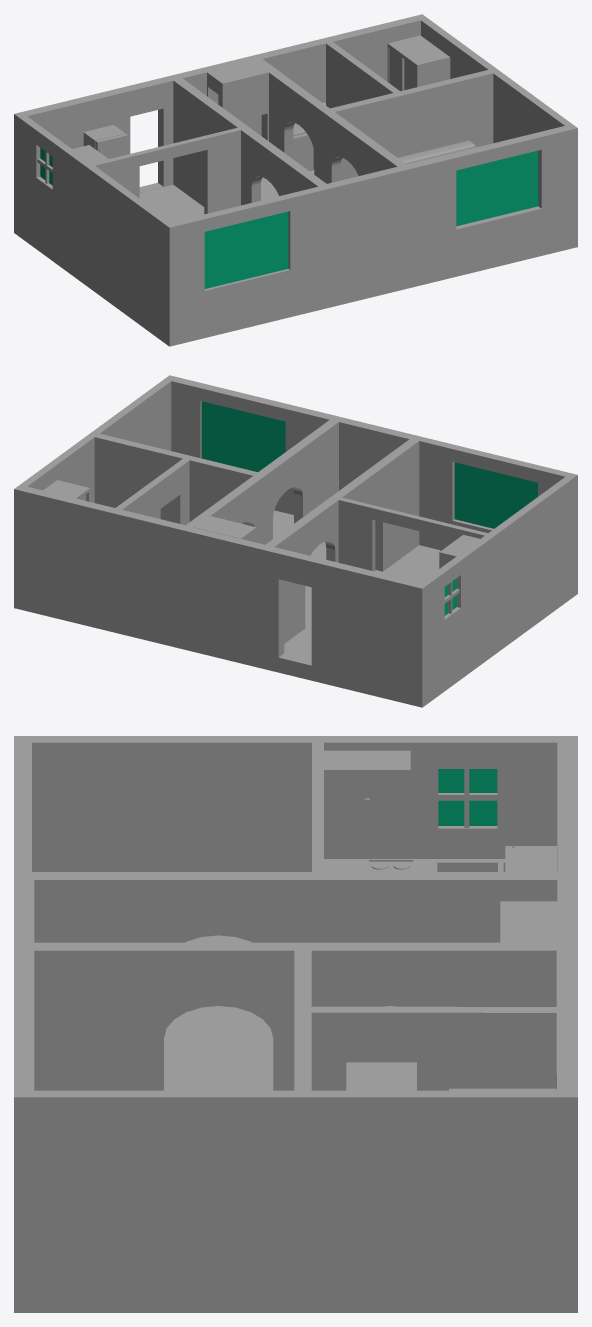
Rendered from House_Layout_05.fbx.
3 renders of one model, top to bottom at view 1: azimuth 30°, elevation 25°; view 2: azimuth 150°, elevation 25°; view 3: azimuth 270°, elevation 25°, orthographic. The views are drawn at different scales.
Visible parts, largest first — view 1: group6_pCube7, pCube25, pCube24, pCube22, pCube6, pCube14, pCylinder13, pCube26; view 2: group6_pCube7, pCube24, pCube25, pCube22, pCube6, pCube12; view 3: group6_pCube7, pCube12, pCube17, pCube11, pCube22, pCube14, pCube16.
Part boxes in pixels (x1,y1,x2,y2): group6_pCube7: [14, 14, 577, 346]; pCube25: [204, 211, 288, 288]; pCube24: [456, 150, 538, 226]; pCube22: [207, 60, 269, 141]; pCube6: [387, 35, 450, 91]; pCube14: [83, 125, 127, 158]; pCylinder13: [293, 123, 313, 170]; pCube26: [397, 140, 475, 164]; group6_pCube7: [14, 375, 577, 707]; pCube24: [201, 401, 285, 471]; pCube25: [454, 462, 537, 528]; pCube22: [194, 516, 256, 542]; pCube6: [43, 480, 89, 501]; pCube12: [439, 534, 479, 568]; group6_pCube7: [14, 736, 577, 1312]; pCube12: [324, 750, 410, 834]; pCube17: [438, 769, 497, 825]; pCube11: [324, 859, 505, 942]; pCube22: [500, 901, 557, 942]; pCube14: [503, 846, 556, 871]; pCube16: [438, 769, 497, 827].
Bounding box in the file's own units: 28.92 × 8.06 × 19.09.
